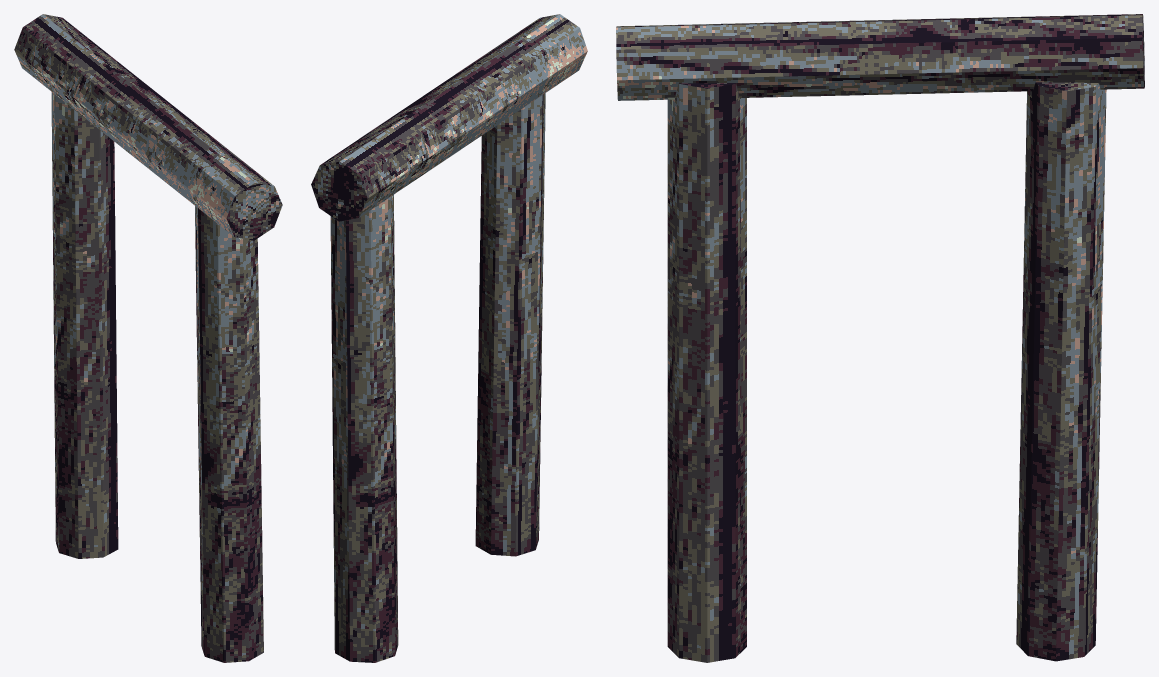
File: doorFrame.gltf
3 renders of one model, left to right at view 1: azimuth 30°, elevation 25°; view 2: azimuth 150°, elevation 25°; view 3: azimuth 270°, elevation 25°, orthographic. The views are drawn at different scales.
Visible parts, largest first — view 1: log1, log, logtop; view 2: log1, log, logtop; view 3: log1, log, logtop.
Part boxes in pixels (<box>): log1: <box>51,92,118,558</box>; log: <box>195,206,263,662</box>; logtop: <box>14,14,282,240</box>; log1: <box>330,195,398,662</box>; log: <box>475,93,545,556</box>; logtop: <box>311,14,587,221</box>; log1: <box>1016,82,1106,661</box>; log: <box>667,83,746,662</box>; logtop: <box>616,14,1144,100</box>.
Bounding box in the file's own units: 3.51 × 24.12 × 18.51.
1 material, 1 textured.
